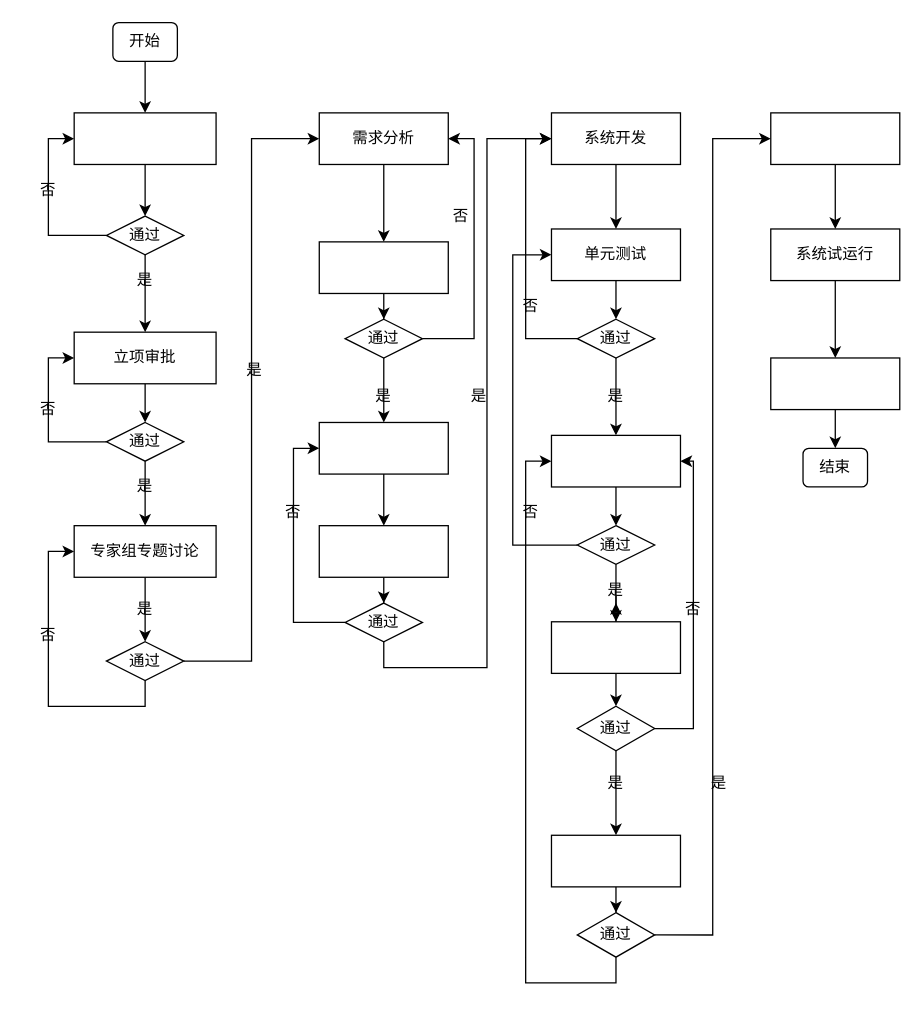
The diagram is 922 pixels wide and 1017 high, and some of its shapes have lost their labels. The shapes that lost their labels are listed below. From the top down, each one's box as (x1, y1, x2, y2) in pixels, then its label:
(73, 112, 216, 164): 研发立项申报
(769, 112, 900, 164): 系统部署上线
(318, 241, 448, 293): 需求评审
(769, 357, 900, 410): 系统维护
(318, 421, 448, 474): 系统设计
(550, 434, 680, 487): 集成测试
(318, 524, 448, 577): 设计评审
(550, 620, 680, 673): 用户测试
(550, 834, 680, 887): 测试评审
